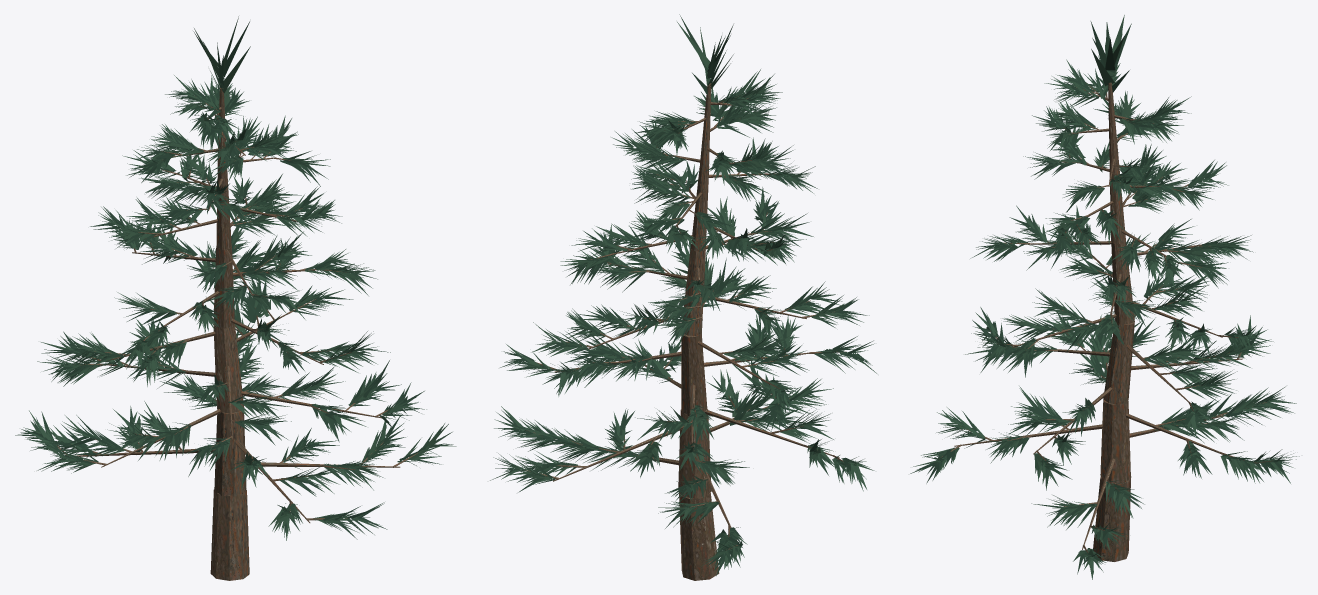
The model's file is detail_spruce.glb.
3 renders of one model, left to right at view 1: azimuth 30°, elevation 25°; view 2: azimuth 150°, elevation 25°; view 3: azimuth 270°, elevation 25°, orthographic. The views are drawn at different scales.
Parts seen in each view (by area): view 1: Cone; view 2: Cone; view 3: Cone.
Part boxes in pixels (bbox=[...]): Cone: bbox=[15, 16, 456, 580]; Cone: bbox=[490, 14, 876, 580]; Cone: bbox=[910, 15, 1299, 579].
Size of the model in its own units: 6.77 by 9.04 by 6.14.
3 materials, 1 textured.
